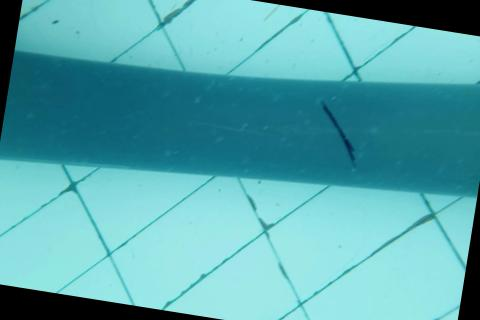keretakan: (312, 100, 365, 168)
